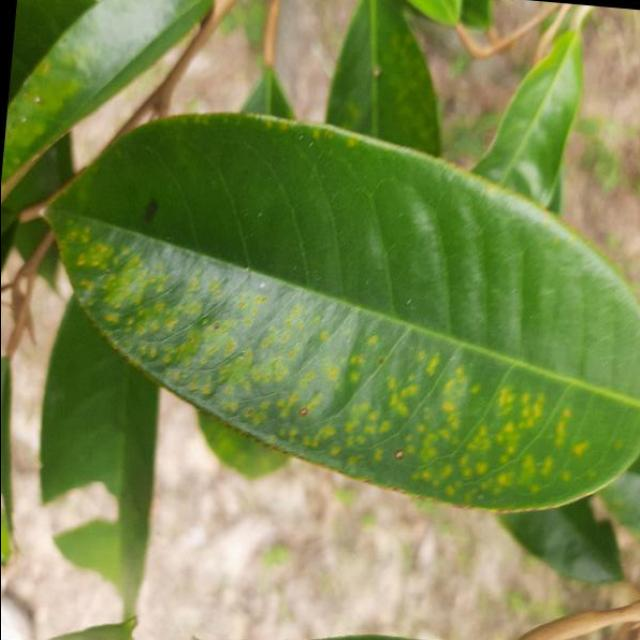Leaf Spot: (9, 78, 640, 544)
